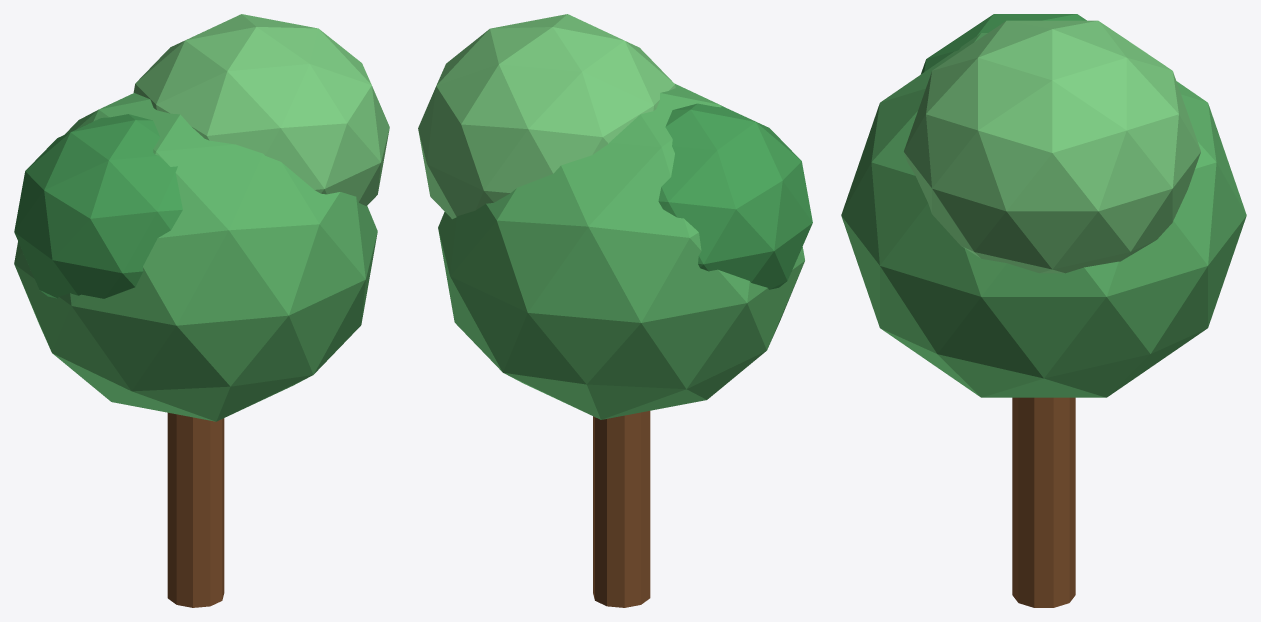
Rendered from Bike_Tree.fbx.
The picture shows the model from 3 angles, left to right: view 1: azimuth 30°, elevation 25°; view 2: azimuth 150°, elevation 25°; view 3: azimuth 270°, elevation 25°; orthographic projection. The views are drawn at different scales.
Parts seen in each view (by area): view 1: Tree; view 2: Tree; view 3: Tree.
Boxes of the visible parts, x1,y1,x2,y2 form: Tree: (14,14,389,607); Tree: (418,14,812,607); Tree: (841,14,1246,607).
Bounding box in the file's own units: 2.56 × 3.92 × 2.4.
